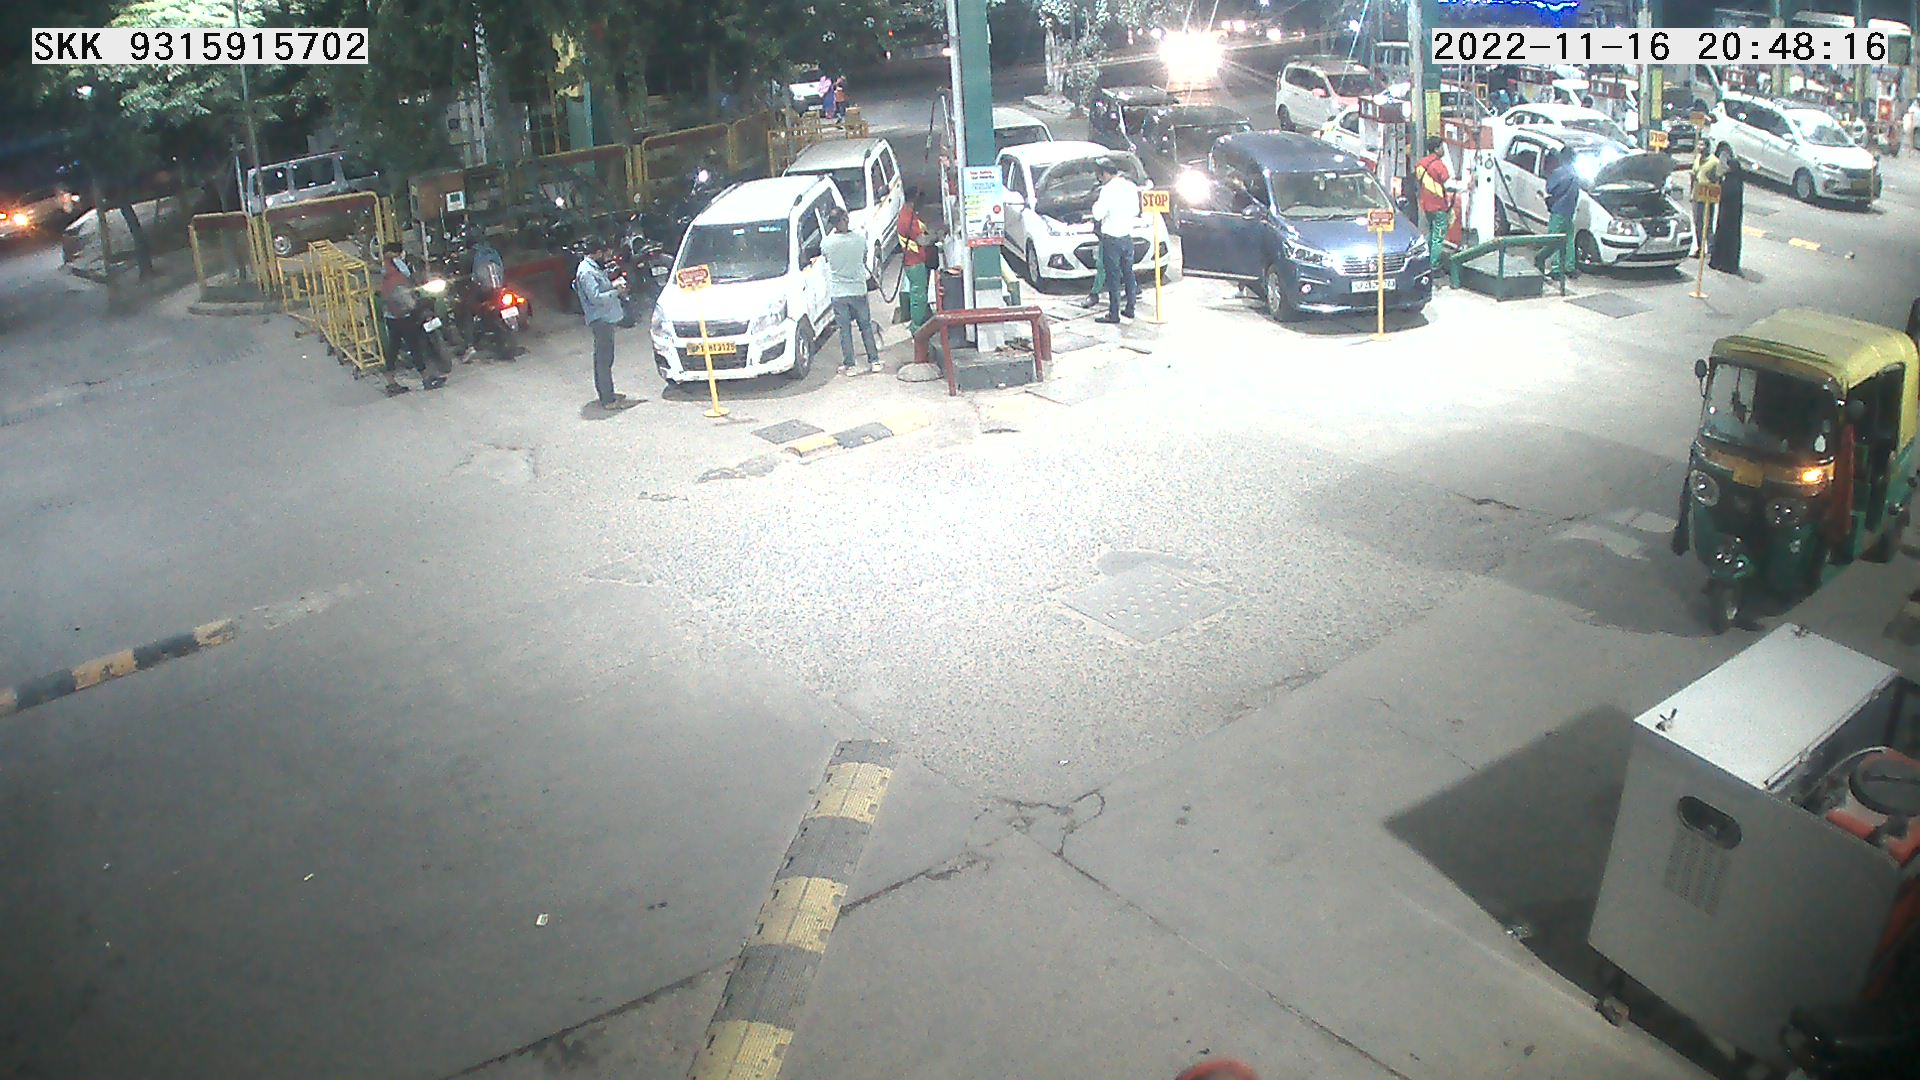Auto: (1656, 287, 1913, 647)
Bike: (433, 215, 537, 368), (380, 245, 465, 386), (535, 182, 613, 309), (572, 200, 644, 338), (599, 181, 678, 287), (618, 170, 684, 251), (684, 135, 754, 198), (665, 153, 715, 204)
Car: (640, 156, 866, 401), (1203, 117, 1443, 328), (1447, 111, 1704, 285), (993, 128, 1179, 311), (1689, 76, 1891, 220), (223, 133, 433, 264), (778, 123, 916, 309), (1127, 92, 1273, 245), (1466, 90, 1658, 175), (1298, 80, 1414, 200), (1259, 41, 1390, 140), (1073, 69, 1189, 167), (1767, 59, 1879, 153), (953, 90, 1065, 179), (746, 53, 848, 132), (1429, 69, 1505, 171), (1, 173, 98, 247), (1639, 62, 1774, 113), (1630, 84, 1710, 170), (1089, 29, 1183, 95), (1571, 62, 1646, 142), (1358, 61, 1425, 128), (1499, 65, 1571, 116), (1891, 71, 1917, 156)
HMV: (1680, 1, 1917, 111), (1422, 0, 1651, 45)
Others: (889, 165, 965, 344), (1523, 138, 1604, 286), (1407, 117, 1468, 299)
Others Other: (673, 252, 735, 433), (1133, 175, 1182, 332), (1360, 200, 1406, 351), (1680, 164, 1720, 302), (1859, 113, 1884, 225), (1876, 92, 1905, 179), (1683, 99, 1717, 171), (1642, 113, 1677, 166)
